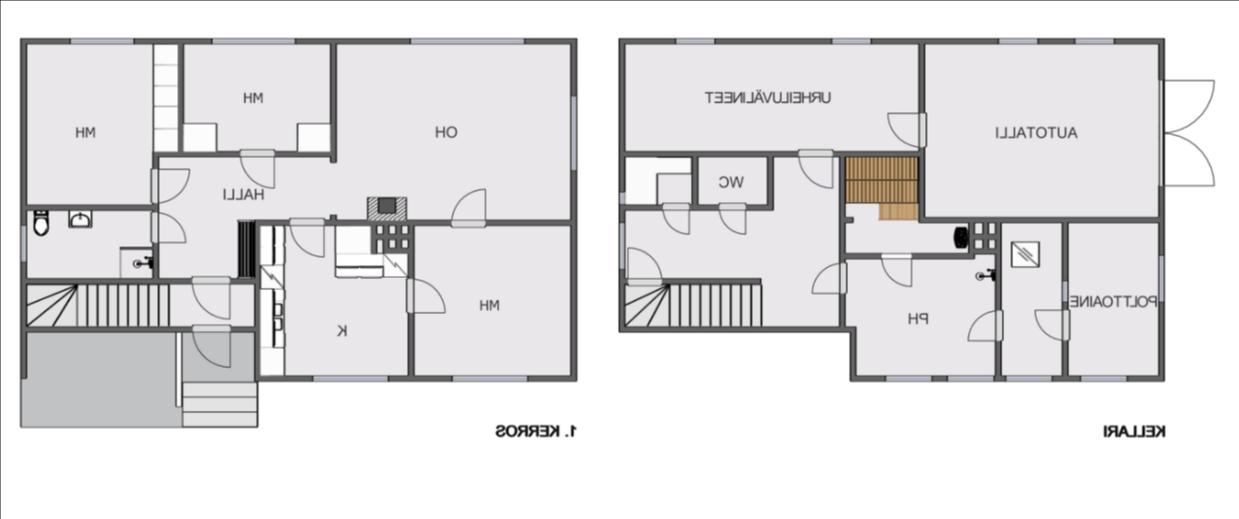bathroom: (23, 208, 154, 278), (696, 154, 768, 206)
door: (1153, 76, 1219, 135), (1156, 130, 1218, 189), (188, 322, 232, 369), (403, 274, 449, 318), (191, 274, 234, 320), (797, 144, 837, 190), (148, 165, 192, 206), (448, 186, 488, 229), (964, 306, 1006, 346), (623, 244, 663, 286), (236, 147, 276, 189), (884, 111, 930, 147), (876, 250, 914, 290), (716, 197, 752, 238), (148, 209, 190, 244), (810, 259, 849, 296), (1033, 308, 1073, 342), (656, 200, 692, 234)
perimeter: (20, 40, 576, 382), (618, 37, 1164, 384)
stairs: (25, 284, 170, 328), (622, 284, 764, 325), (180, 382, 257, 426)
window: (404, 34, 532, 48), (447, 371, 534, 386), (202, 35, 300, 48), (565, 90, 579, 177), (305, 372, 395, 384), (62, 34, 142, 47), (1072, 370, 1132, 386), (879, 370, 939, 386), (940, 370, 996, 386), (1001, 369, 1057, 384), (1156, 250, 1168, 308), (15, 220, 30, 266), (1071, 33, 1117, 47), (668, 35, 720, 47), (995, 34, 1042, 47), (616, 217, 626, 277), (826, 38, 876, 47), (615, 188, 629, 208)
